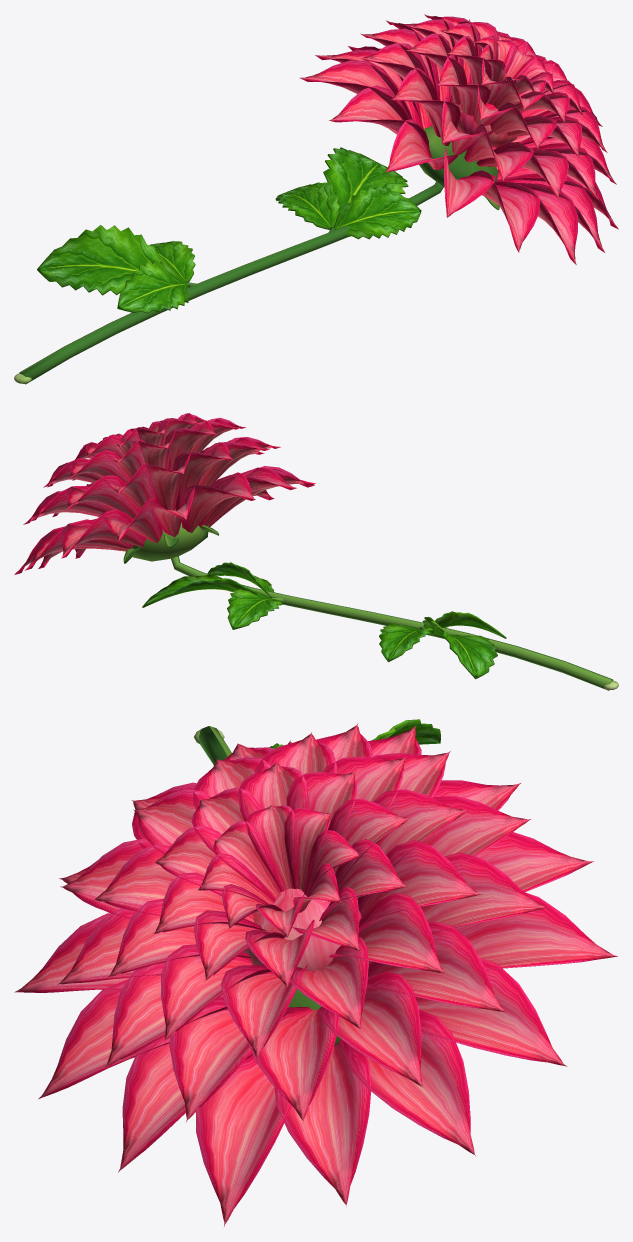
File: NP_Dahlia_Harvest.fbx
3 views of the same model, one above another, from view 1: azimuth 30°, elevation 25°; view 2: azimuth 150°, elevation 25°; view 3: azimuth 270°, elevation 25° (orthographic). The views are drawn at different scales.
Parts seen in each view (by area): view 1: NP_Dahlia_Harvest; view 2: NP_Dahlia_Harvest; view 3: NP_Dahlia_Harvest.
Boxes of the visible parts, bbox=[...] form: NP_Dahlia_Harvest: bbox=[14, 14, 618, 384]; NP_Dahlia_Harvest: bbox=[14, 413, 618, 690]; NP_Dahlia_Harvest: bbox=[14, 719, 618, 1226].
Size of the model in its own units: 61.04 by 20.39 by 31.24.
